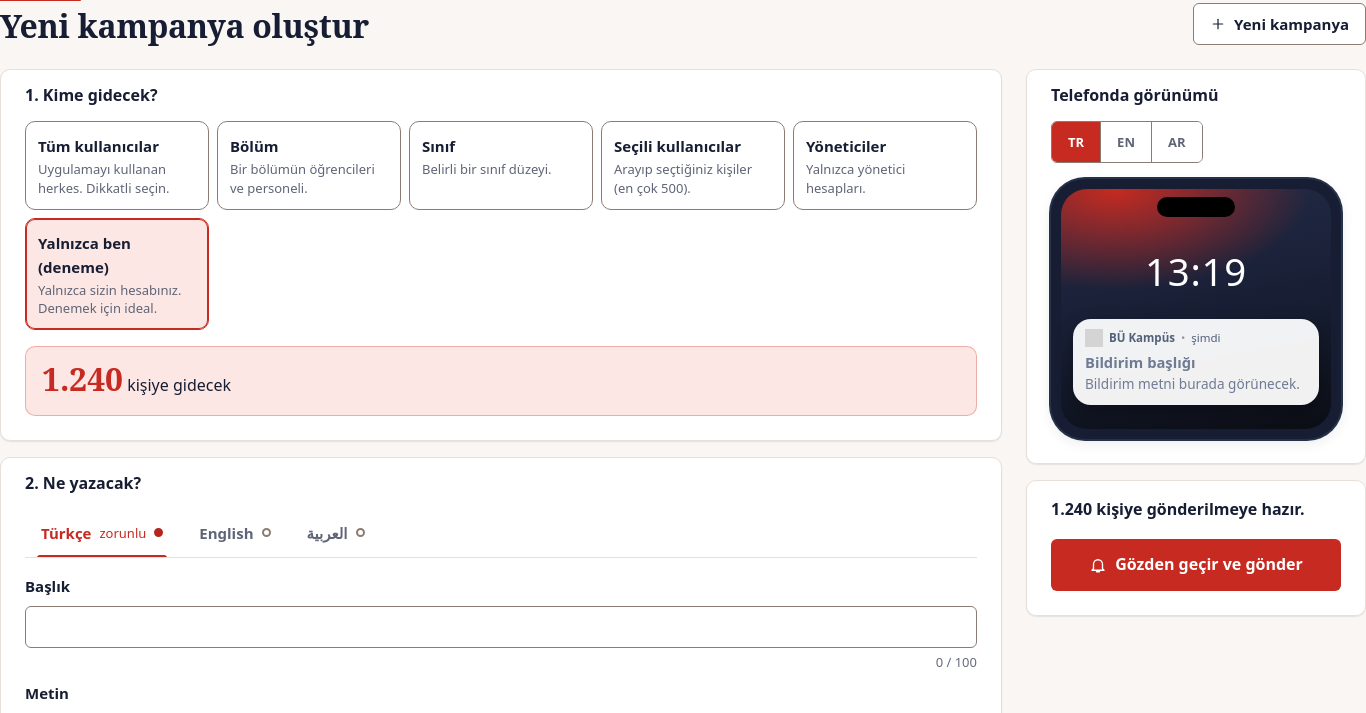
Test: kampanya oluşturucu › Arapça önizleme sağdan sola yönlendirilir
Click the tab "العربية".
click(336, 533)  # box [290, 509, 380, 557]
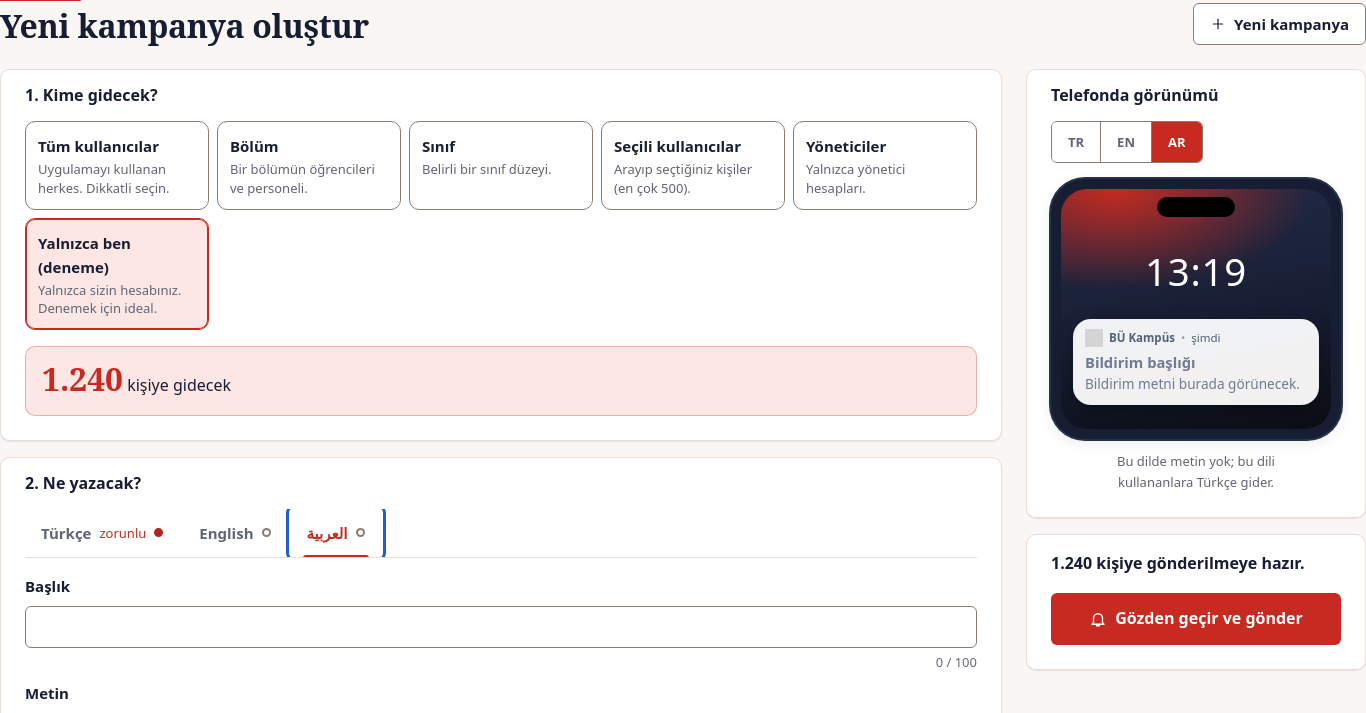
Type "عنوان" into the field labelled "Başlık".
click(501, 627); type("عنوان")  # box [25, 606, 977, 648]
(page scrolled)
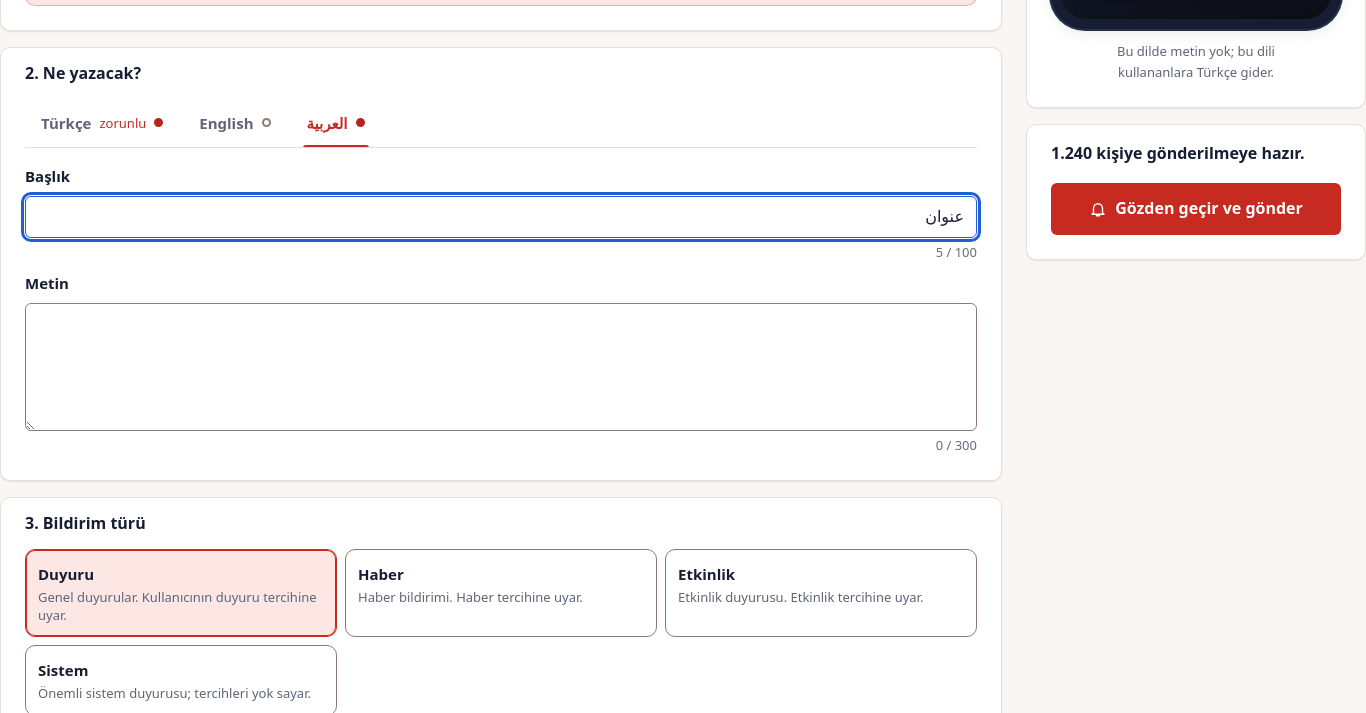
Type "نص" into the text box labelled "Metin".
click(501, 367); type("نص")  # box [25, 303, 977, 431]
(page scrolled)
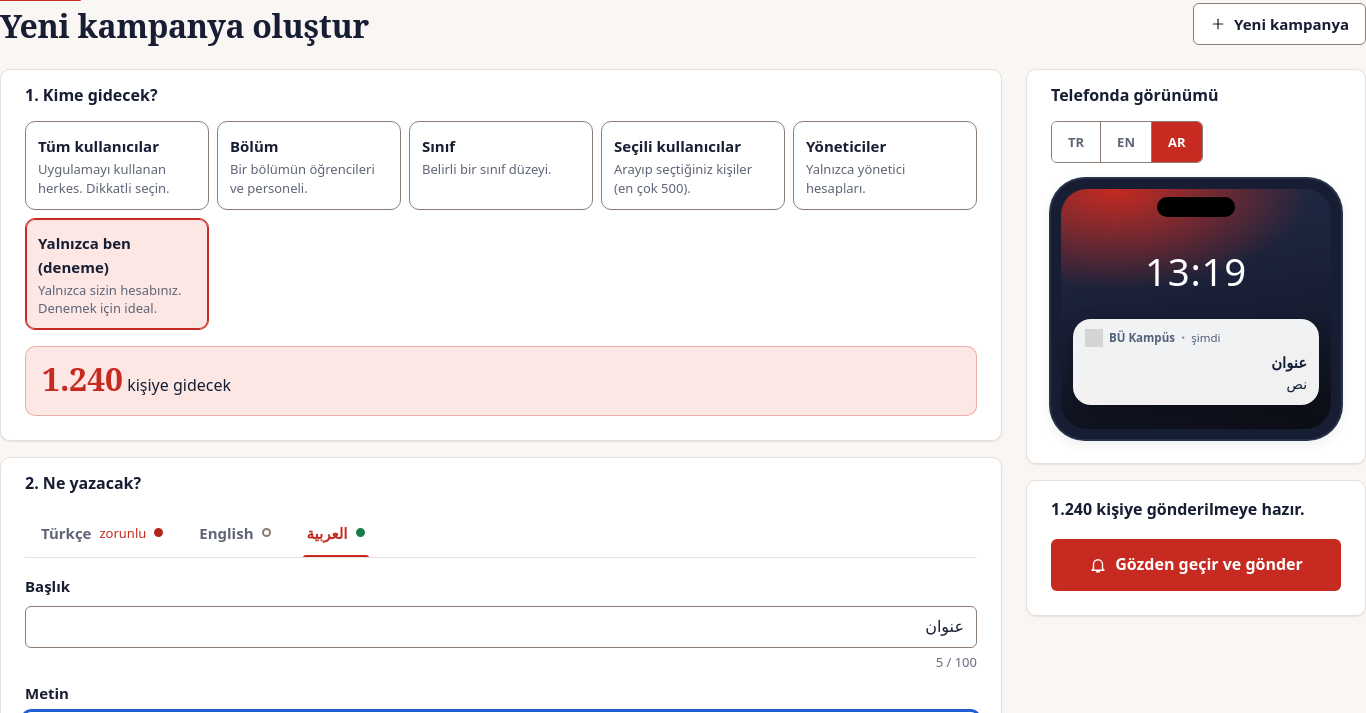
expect the element with test id "phone-notification" shows "عنوان": met, box [1271, 352, 1307, 372]
